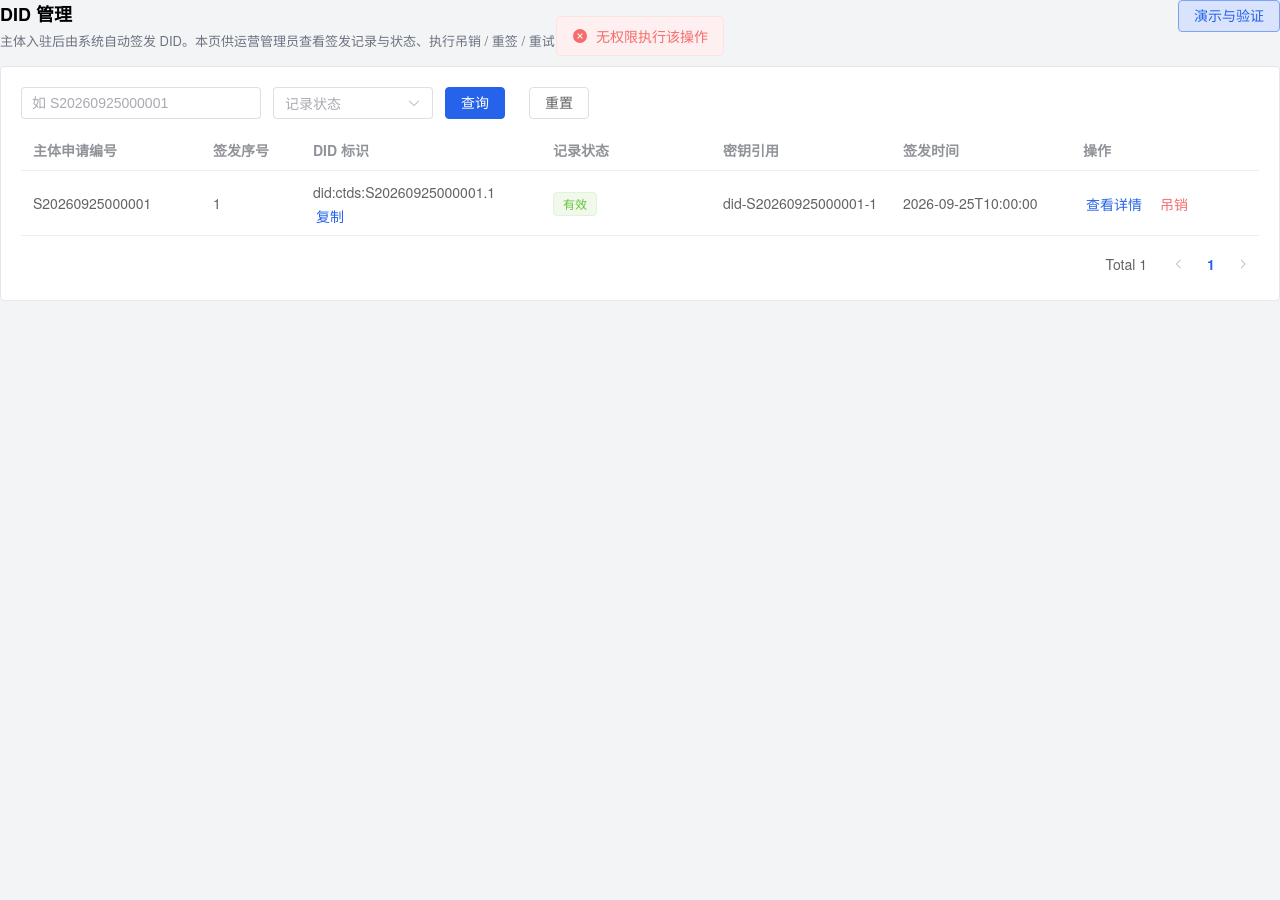
Test: DID 管理页 · 吊销两段式（WBS-3.1.11 T11/T12，规格行为 4） › 理由留空提交：提示"吊销理由必填"且不发任何请求
Click the button "吊销" at point(1174, 205), box x1=1157 y1=195 x2=1191 y2=215
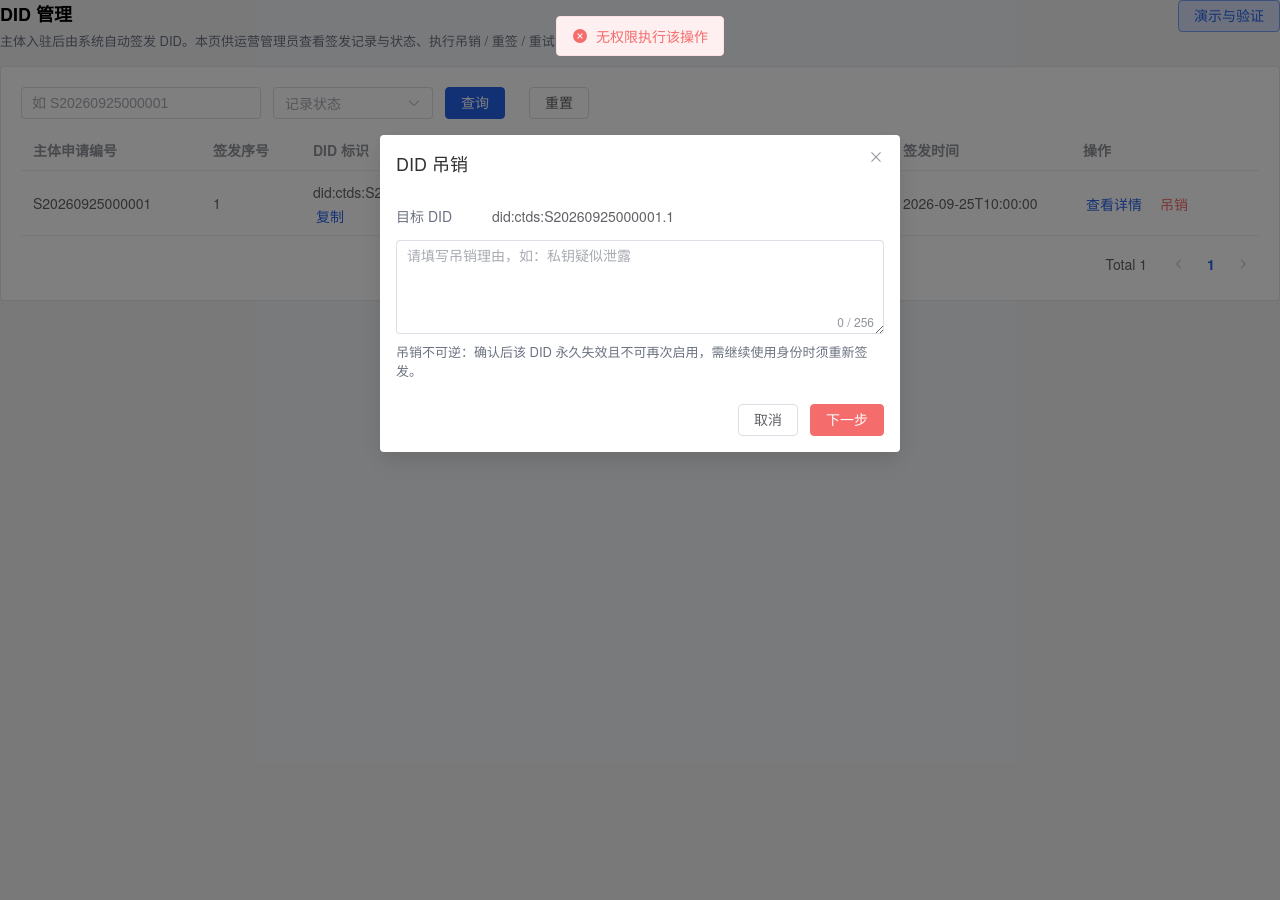
Check: the text "吊销不可逆" is shown, box x1=396 y1=342 x2=868 y2=380
Click the button with class "revoke-next-btn" at point(847, 420), box x1=810 y1=404 x2=884 y2=436
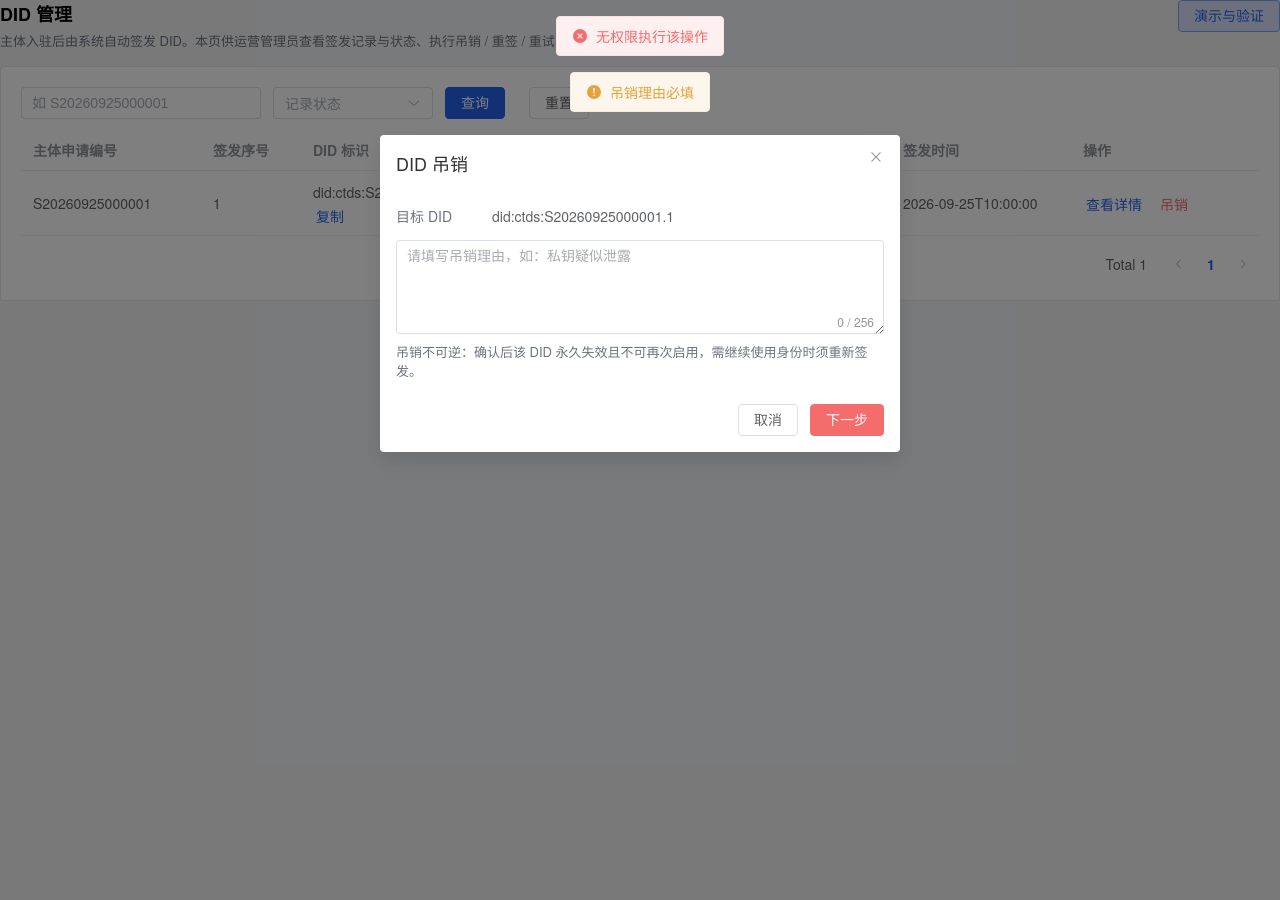
Check: the text "吊销理由必填" is shown, box x1=610 y1=85 x2=694 y2=99
